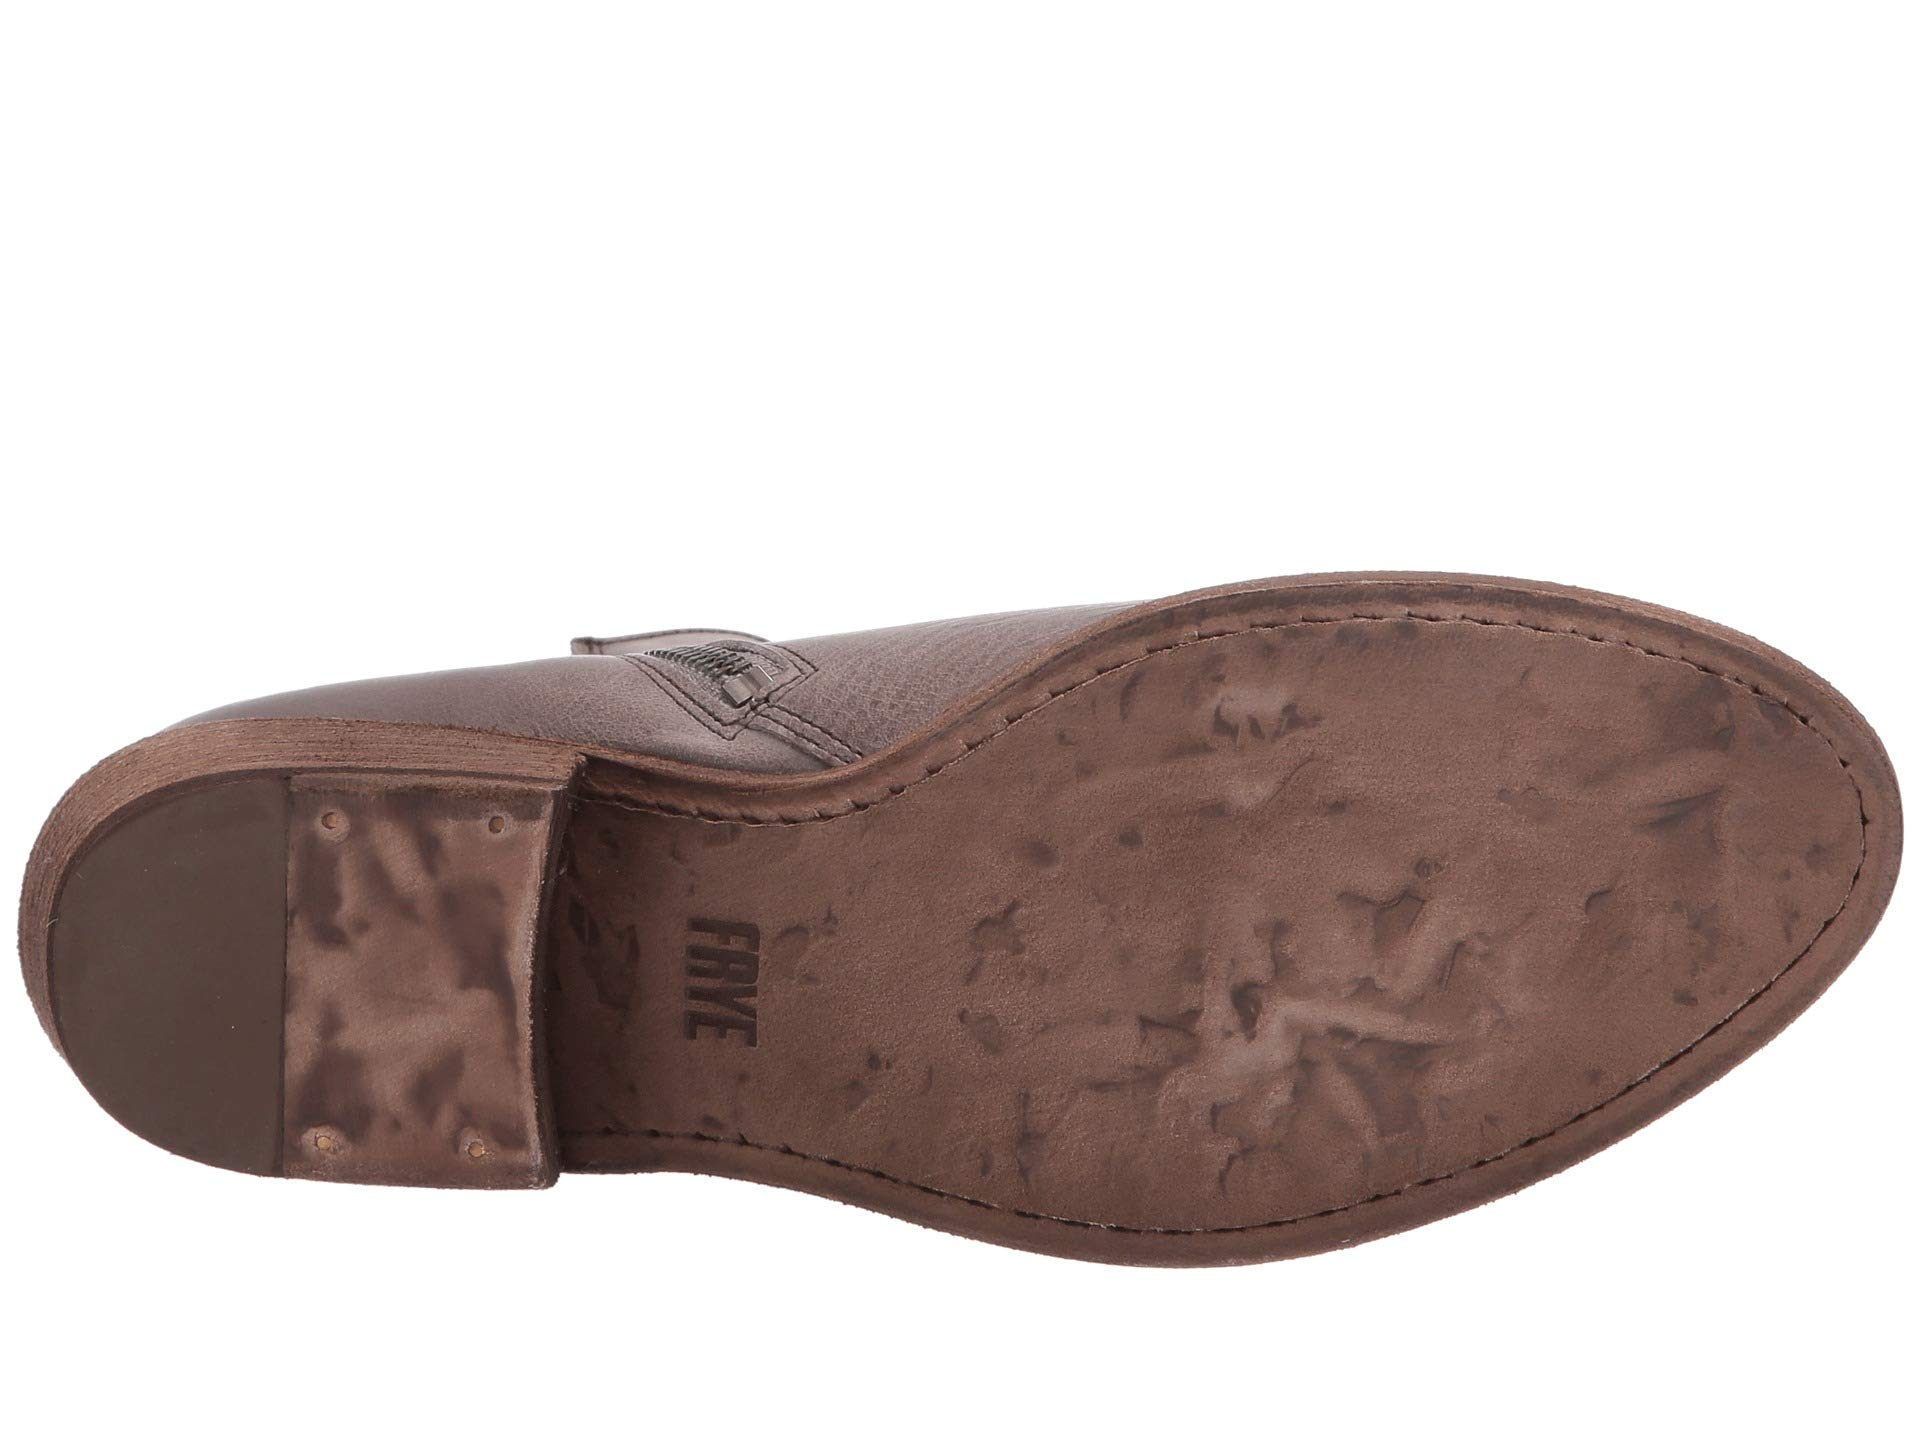circle: (301, 796, 519, 1171), (293, 1113, 351, 1171), (449, 1119, 502, 1181), (466, 808, 522, 856), (314, 811, 355, 836)
